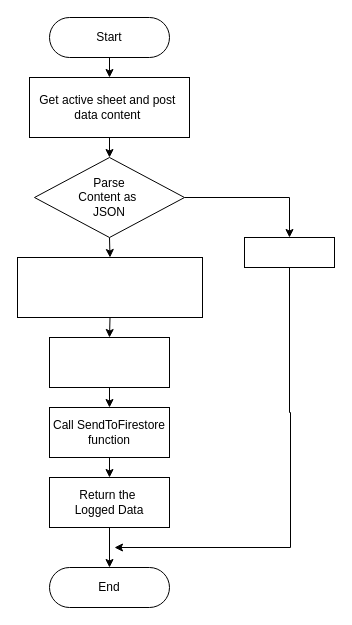
Some shapes in this 352 by 625 pixel diagram are drawn without their labels. The shapes that lost their labels are listed below. From the top down, each one's centre as x and y in pixels, then its label:
At (289,252): "Log Error".
At (109,287): "Extract voltage current, soc, cells, temps, timestamps".
At (109,362): "Append Data to the Sheet".
